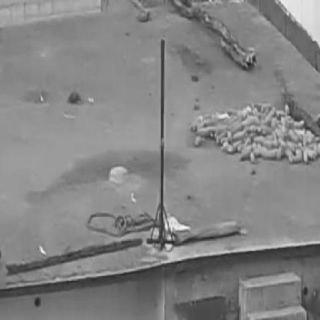other: (190, 84, 316, 168)
